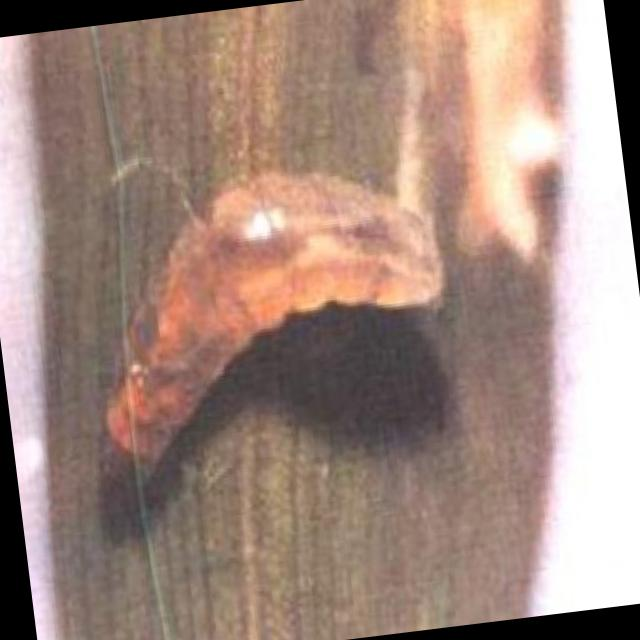whorl-maggot: (72, 146, 471, 478)
